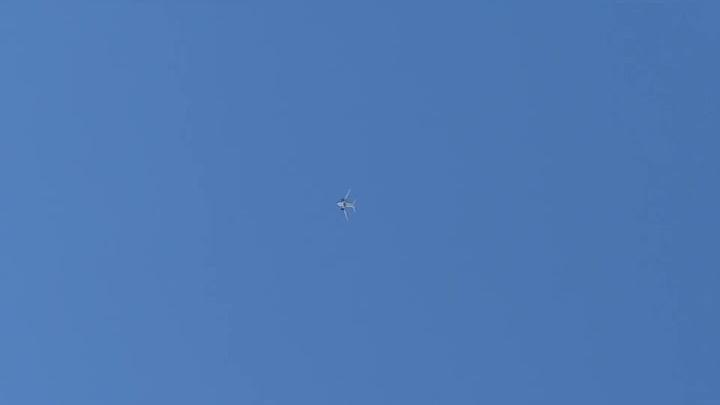Plane: (321, 186, 371, 225)
